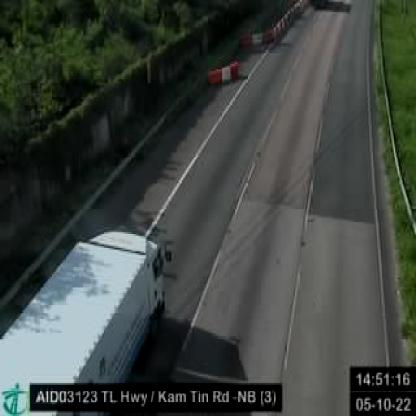Truck: (0, 230, 168, 411)
